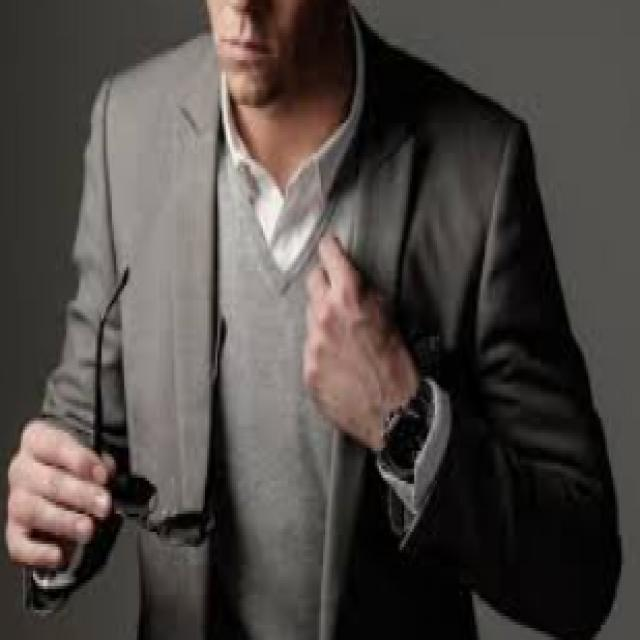Watch: (381, 380, 433, 486)
